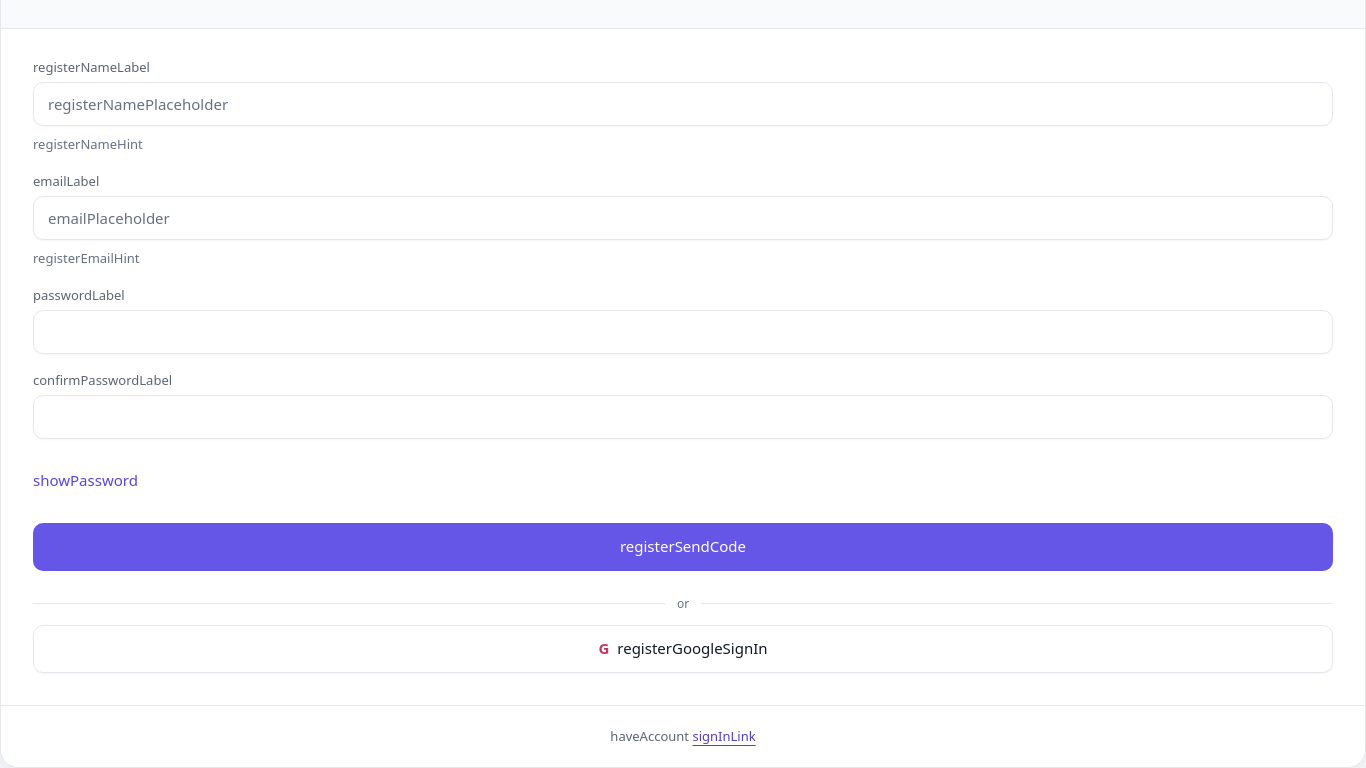
Scenario: RegisterForm › keeps safe next on the login link and preserves Google sign-in behavior
The image size is (1366, 768).
(page scrolled)
Click the button "G registerGoogleSignIn": x=683, y=649 [33, 625, 1333, 673]
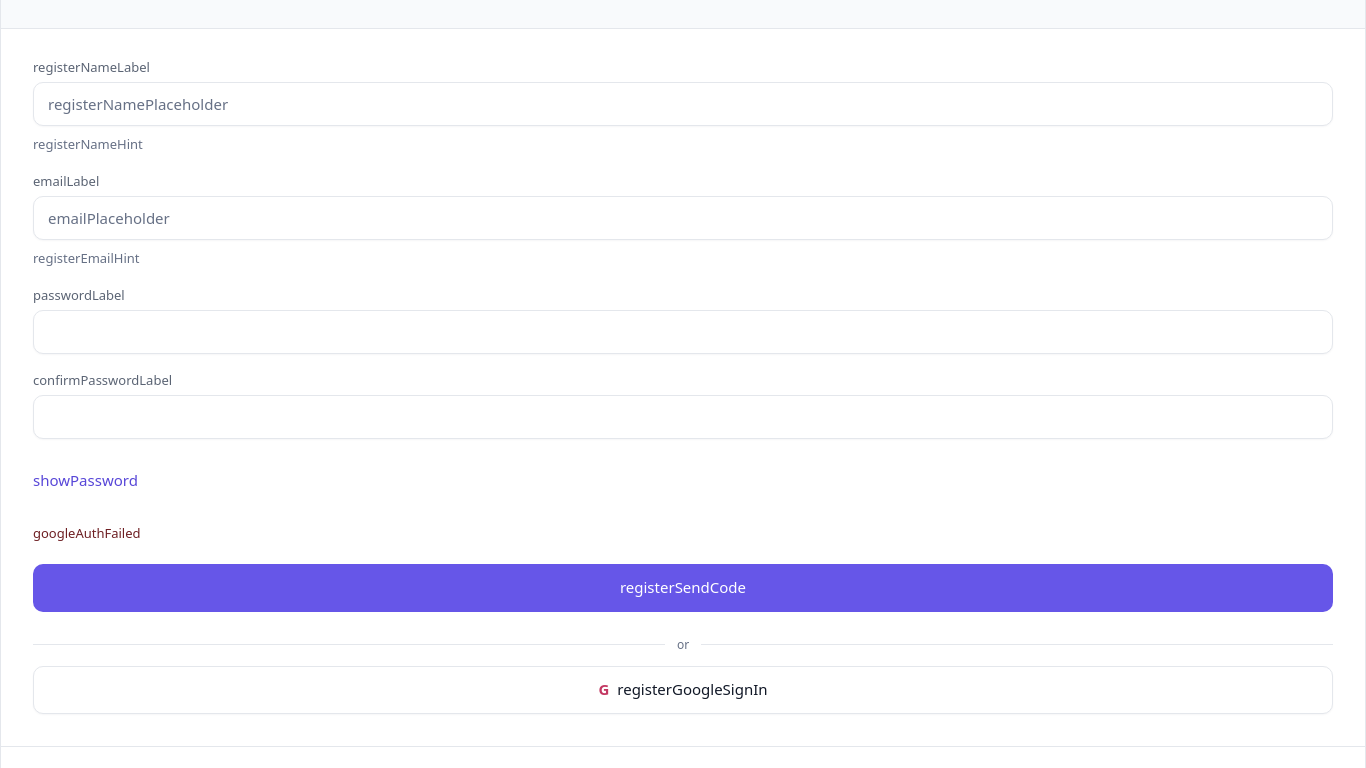
Check: the message reads "googleAuthFailed", box [33, 524, 141, 542]
